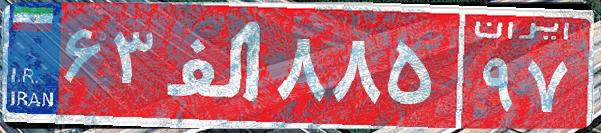3: (110, 28, 158, 105)
5: (385, 28, 445, 110)
6: (57, 26, 110, 107)
7: (525, 38, 570, 115)
8: (273, 28, 330, 110), (330, 28, 385, 110)
9: (475, 38, 525, 113)
الف: (158, 15, 273, 115)
